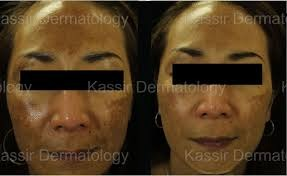Melasma: (35, 25, 92, 52), (9, 96, 43, 132), (103, 96, 126, 149), (162, 93, 183, 141), (246, 95, 264, 132)
